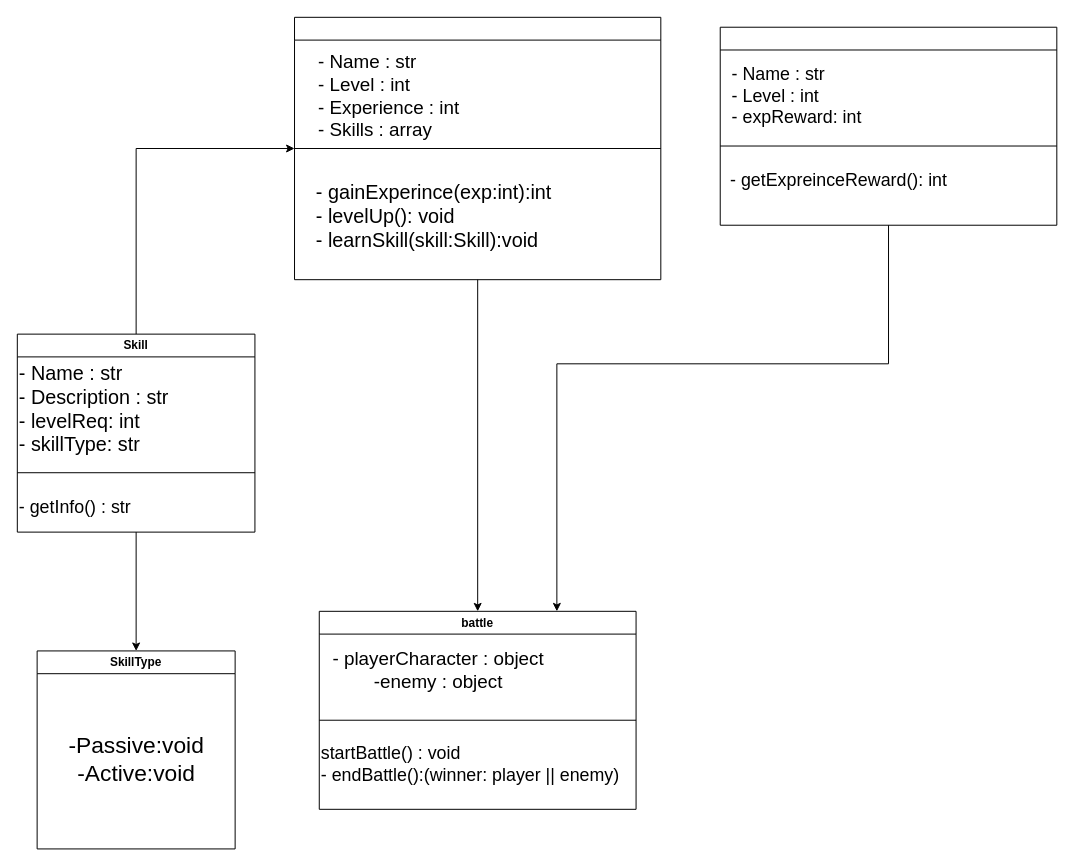
The diagram is 1075 pixels wide and 866 high, and some of its shapes have lost their labels. Here are the shapes that lost their labels. From the top down, the box of each, then its label:
(719, 26, 1057, 225): Enemy
(294, 16, 661, 280): Character
